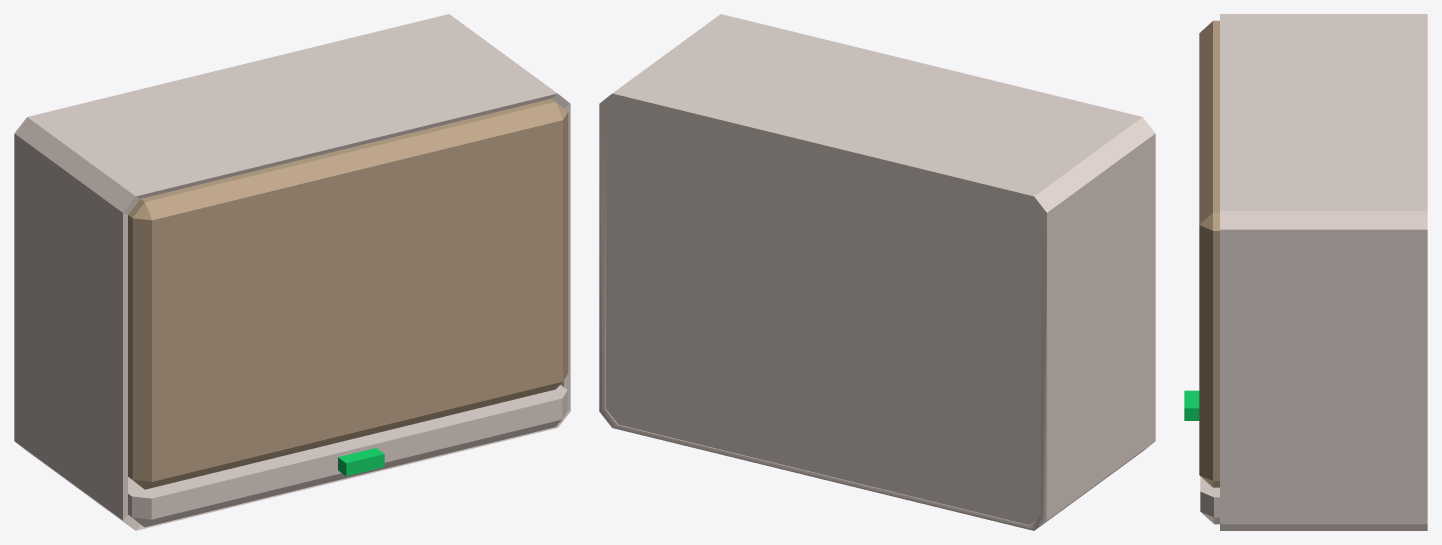
The model's file is FuseBox.fbx.
The picture shows the model from 3 angles, left to right: view 1: azimuth 30°, elevation 25°; view 2: azimuth 150°, elevation 25°; view 3: azimuth 270°, elevation 25°; orthographic projection. The views are drawn at different scales.
Parts seen in each view (by area): view 1: fusebox01_1.003, fusebox01_1, fusebox01_1.002; view 2: fusebox01_1; view 3: fusebox01_1, fusebox01_1.003, fusebox01_1.002.
Part boxes in pixels (x1,y1,x2,y2): fusebox01_1.003: (128,98,568,489); fusebox01_1: (14,14,570,530); fusebox01_1.002: (338,448,384,476); fusebox01_1: (599,14,1155,530); fusebox01_1: (1200,14,1427,530); fusebox01_1.003: (1199,20,1219,487); fusebox01_1.002: (1184,390,1199,420).
Bounding box in the file's own units: 35.95 × 25.68 × 17.71.
